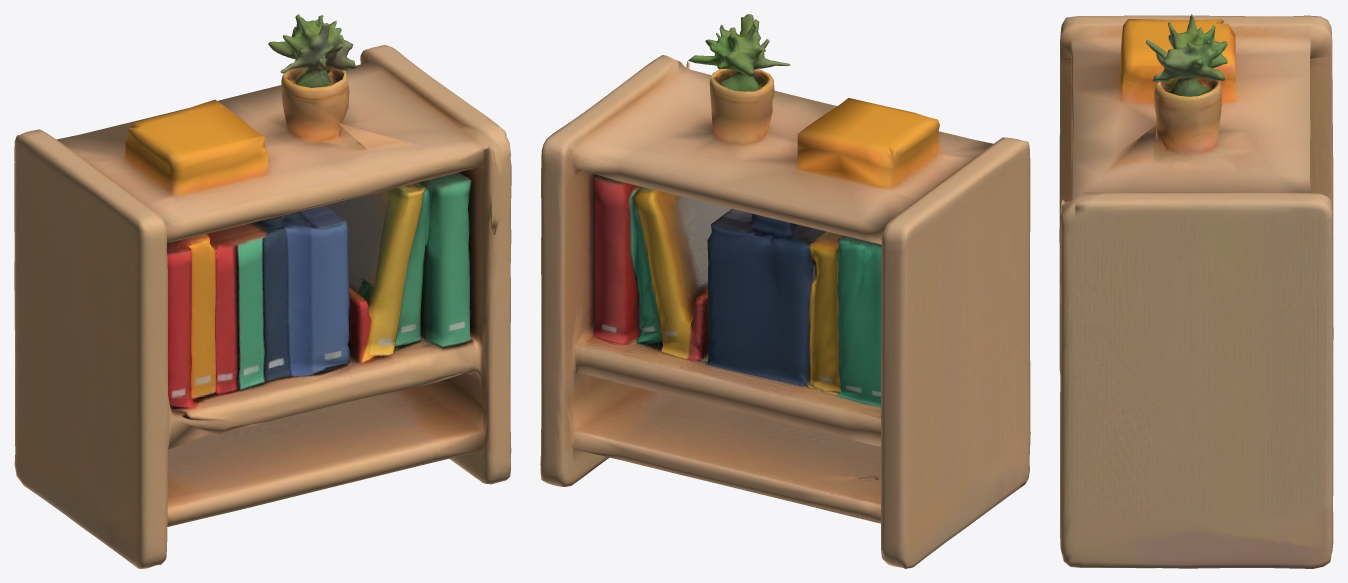
The model's file is bookshelf.glb.
3 views of the same model, side by side, from view 1: azimuth 30°, elevation 25°; view 2: azimuth 150°, elevation 25°; view 3: azimuth 270°, elevation 25° (orthographic). The views are drawn at different scales.
Bounding box in the file's own units: 1.69 × 2 × 1.03.
Materials: 1 (1 with a texture image).
